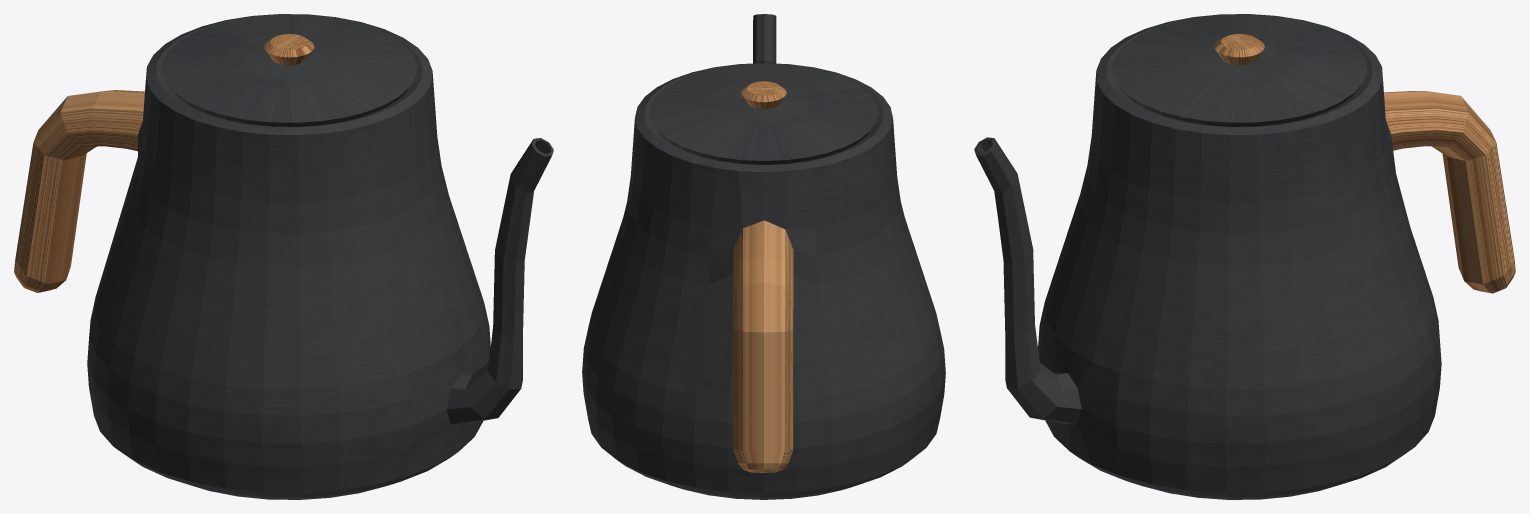
Rendered from Goose Neck Kettle Model.fbx.
3 views of the same model, side by side, from view 1: azimuth 30°, elevation 25°; view 2: azimuth 150°, elevation 25°; view 3: azimuth 270°, elevation 25° (orthographic). The views are drawn at different scales.
Parts seen in each view (by area): view 1: Goose_Neck_Kettle_Model; view 2: Goose_Neck_Kettle_Model; view 3: Goose_Neck_Kettle_Model.
Part boxes in pixels (x1,y1,x2,y2): Goose_Neck_Kettle_Model: (14, 14, 553, 499); Goose_Neck_Kettle_Model: (582, 14, 945, 499); Goose_Neck_Kettle_Model: (974, 14, 1515, 499).
Bounding box in the file's own units: 24.2 × 26.19 × 32.45.
2 materials, 2 textured.
